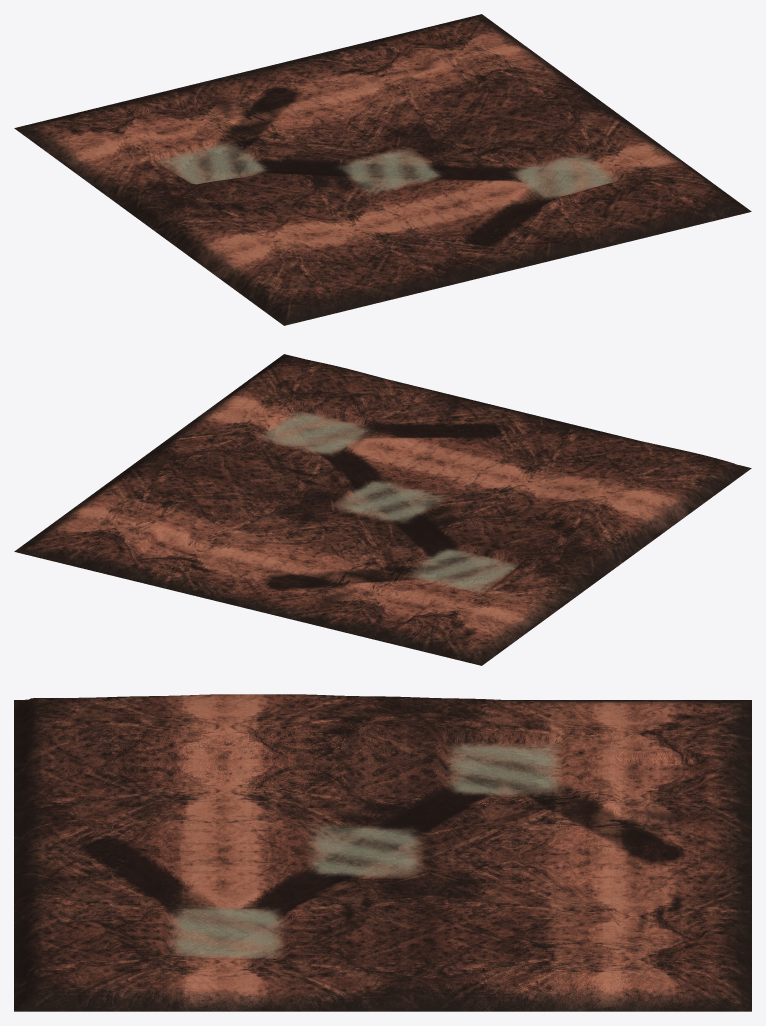
File: seed-run-terrain.glb
The picture shows the model from 3 angles, top to bottom: view 1: azimuth 30°, elevation 25°; view 2: azimuth 150°, elevation 25°; view 3: azimuth 270°, elevation 25°; orthographic projection. The views are drawn at different scales.
Visible parts, largest first — view 1: SeedRunTerrain; view 2: SeedRunTerrain; view 3: SeedRunTerrain.
Boxes of the visible parts, <box> form: SeedRunTerrain: <box>14,14,751,325</box>; SeedRunTerrain: <box>14,354,751,665</box>; SeedRunTerrain: <box>14,694,751,1011</box>.
Bounding box in the file's own units: 128 × 3.86 × 128.
Materials: 1 (1 with a texture image).
